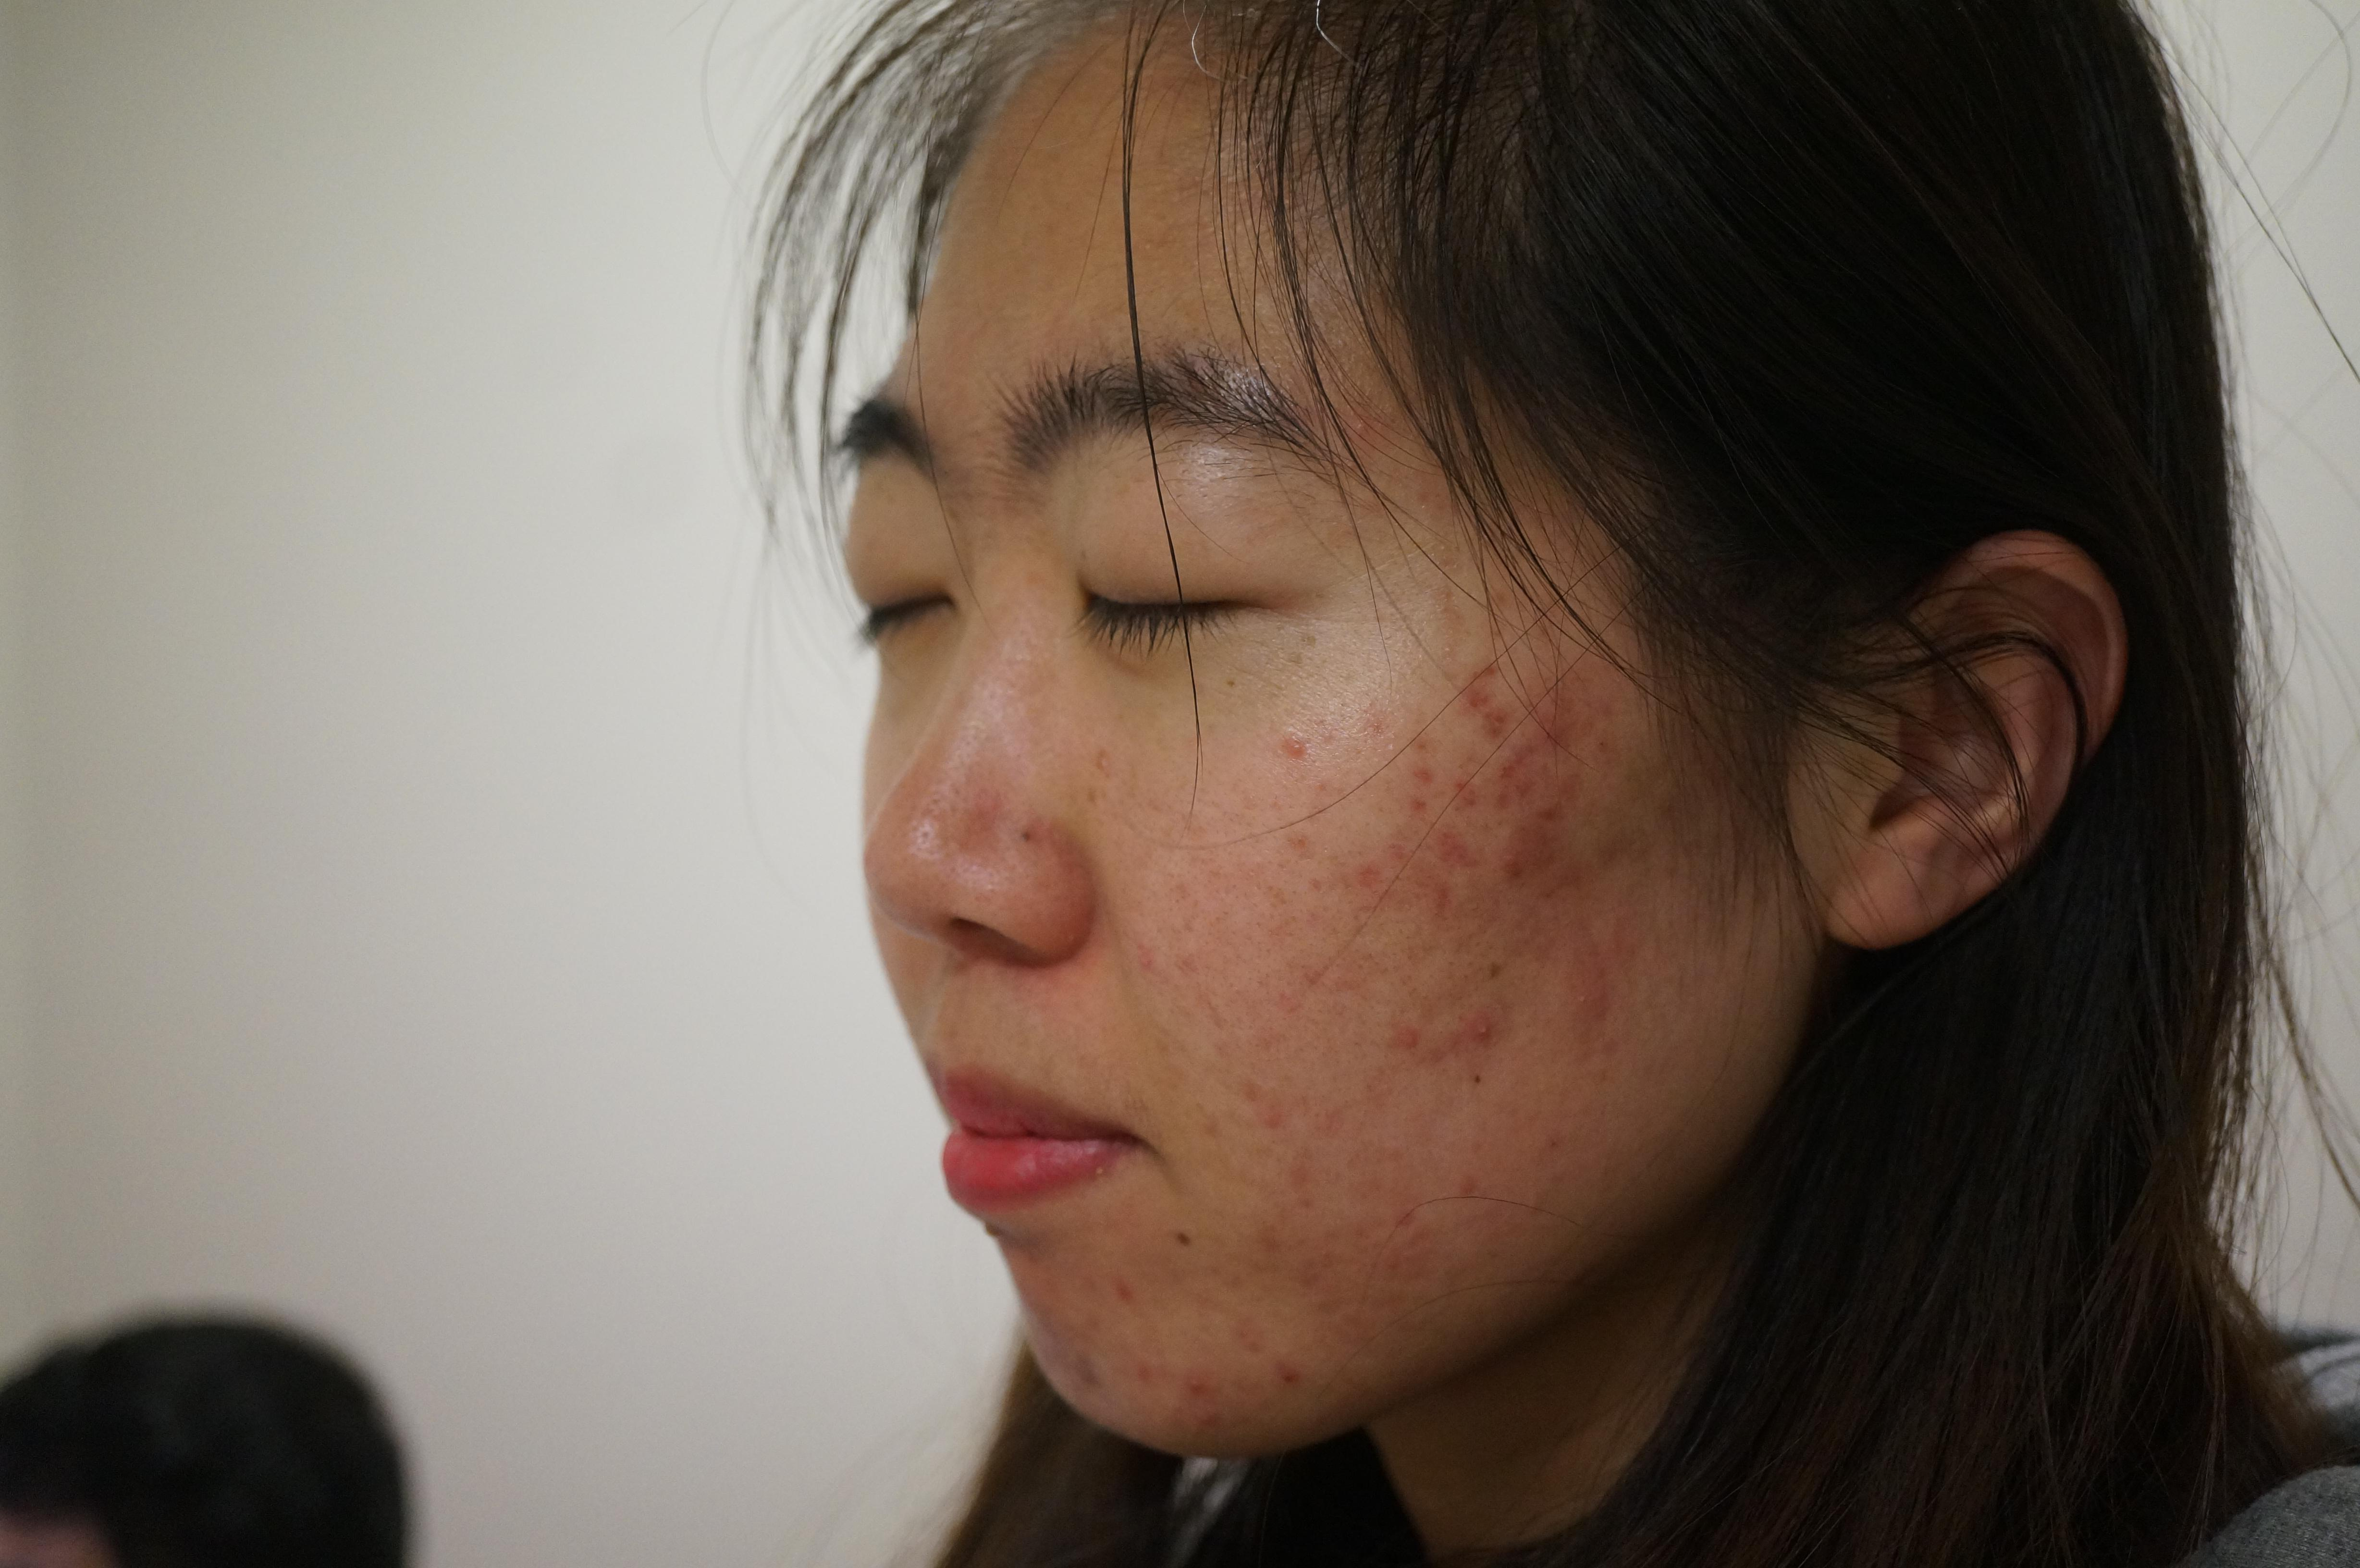fore: (1489, 684, 1601, 749), (1246, 1340, 1324, 1416), (1464, 740, 1540, 812), (1499, 821, 1576, 884), (1384, 728, 1456, 786), (1188, 1356, 1253, 1419), (1076, 1263, 1144, 1319), (1128, 1356, 1184, 1419), (1246, 724, 1312, 773), (1412, 889, 1484, 933), (1393, 777, 1452, 829), (1440, 677, 1496, 728), (1552, 933, 1595, 989), (1384, 1008, 1424, 1064), (1356, 845, 1396, 889), (1440, 1001, 1480, 1036), (1424, 836, 1456, 880), (1477, 646, 1505, 693)
